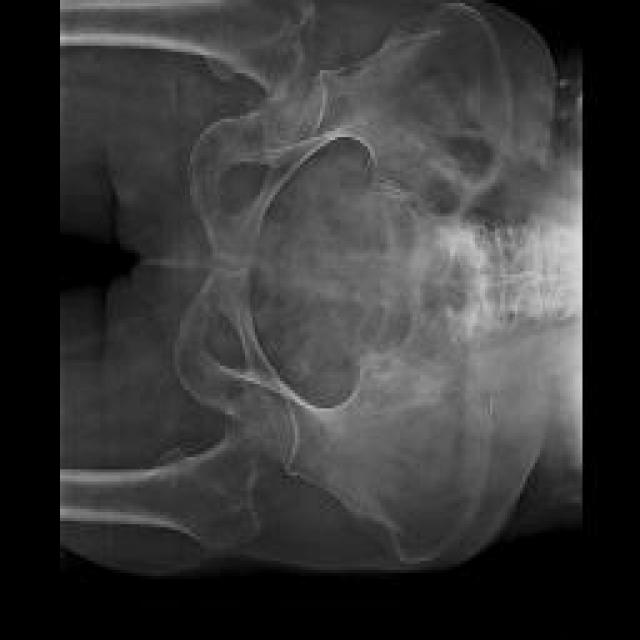normal: (57, 268, 493, 556), (59, 0, 510, 259)
